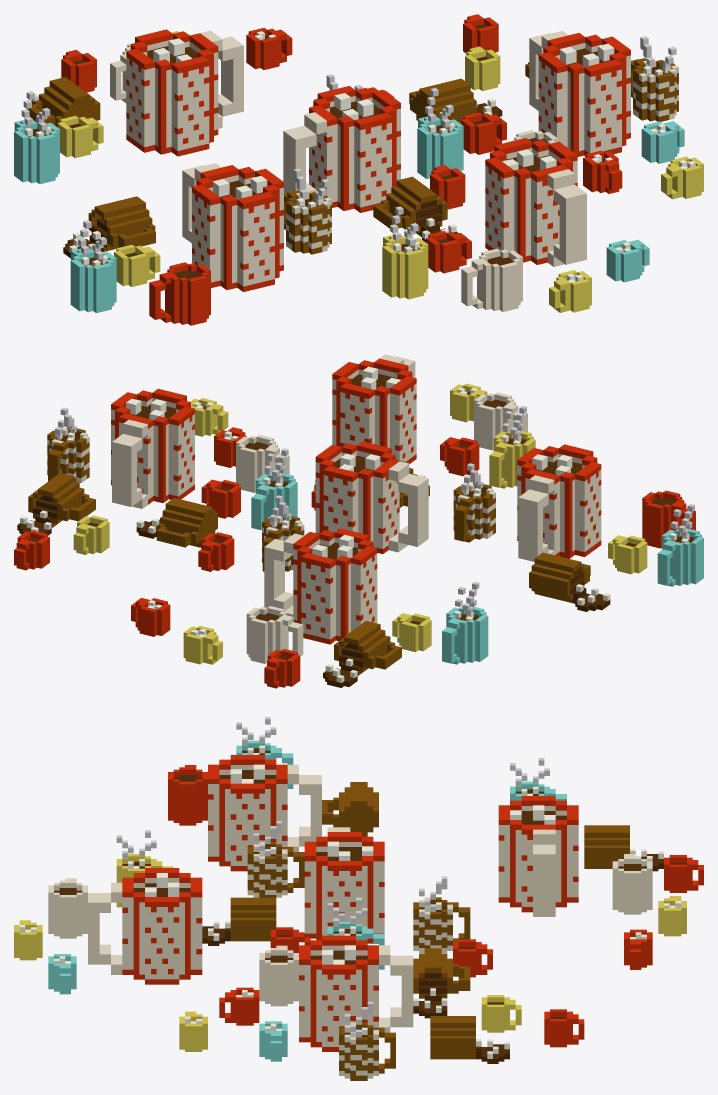
The model's file is hot_chocolate_inner.obj.
The picture shows the model from 3 angles, top to bottom: view 1: azimuth 30°, elevation 25°; view 2: azimuth 150°, elevation 25°; view 3: azimuth 270°, elevation 25°; orthographic projection. The views are drawn at different scales.
Visible parts, largest first — view 1: hot_chocolate_inner; view 2: hot_chocolate_inner; view 3: hot_chocolate_inner.
Part boxes in pixels (x1,y1,x2,y2): hot_chocolate_inner: (14,14,703,325); hot_chocolate_inner: (14,354,703,688); hot_chocolate_inner: (14,717,703,1080).
Bounding box in the file's own units: 124 × 16 × 121.
1 material, 1 textured.
